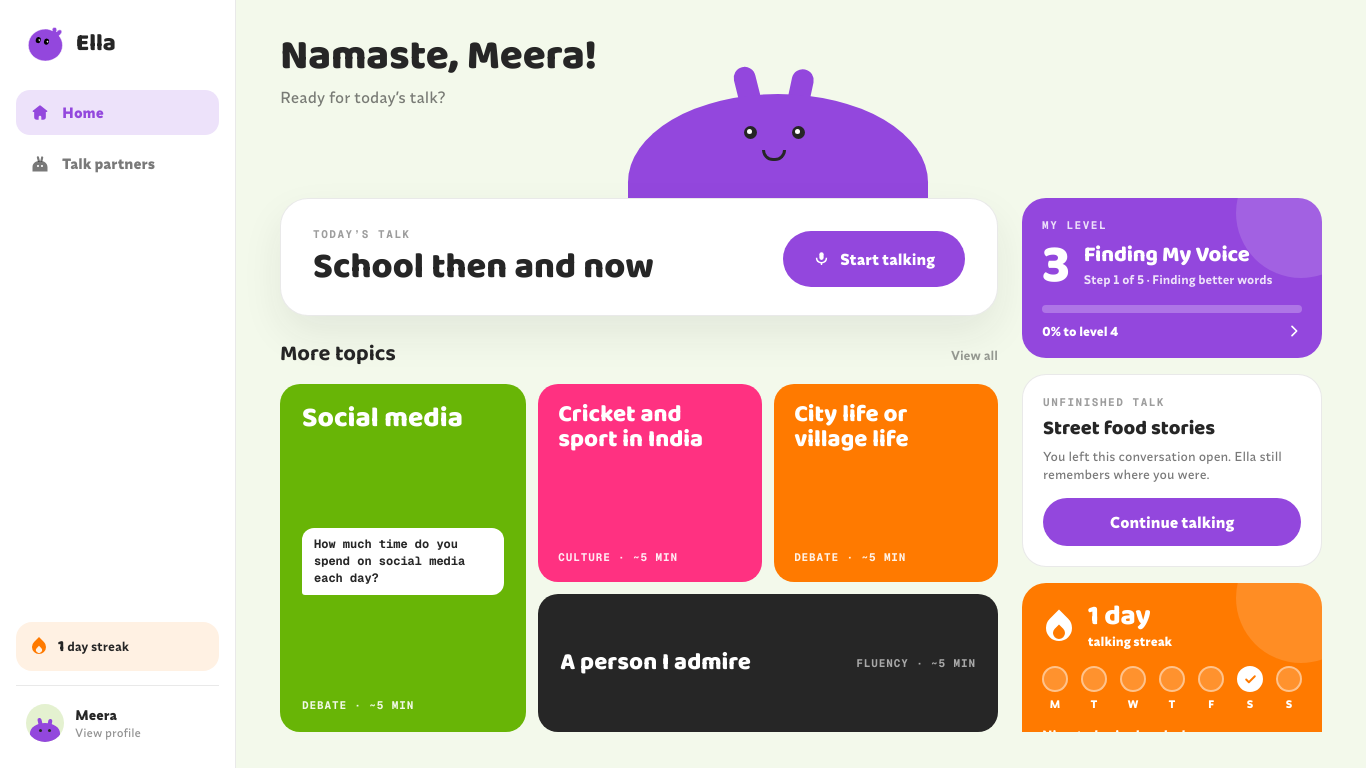
Test: Ella learner flow › offers an unfinished talk on the home screen and resumes it
The image size is (1366, 768).
Expected: the heading "Namaste, Meera!" is shown, [280,23,597,90]
Expected: the text "Unfinished talk" is shown, [1043,395,1165,409]
Click the button "Continue talking": (1172, 522) [1043,498,1301,546]
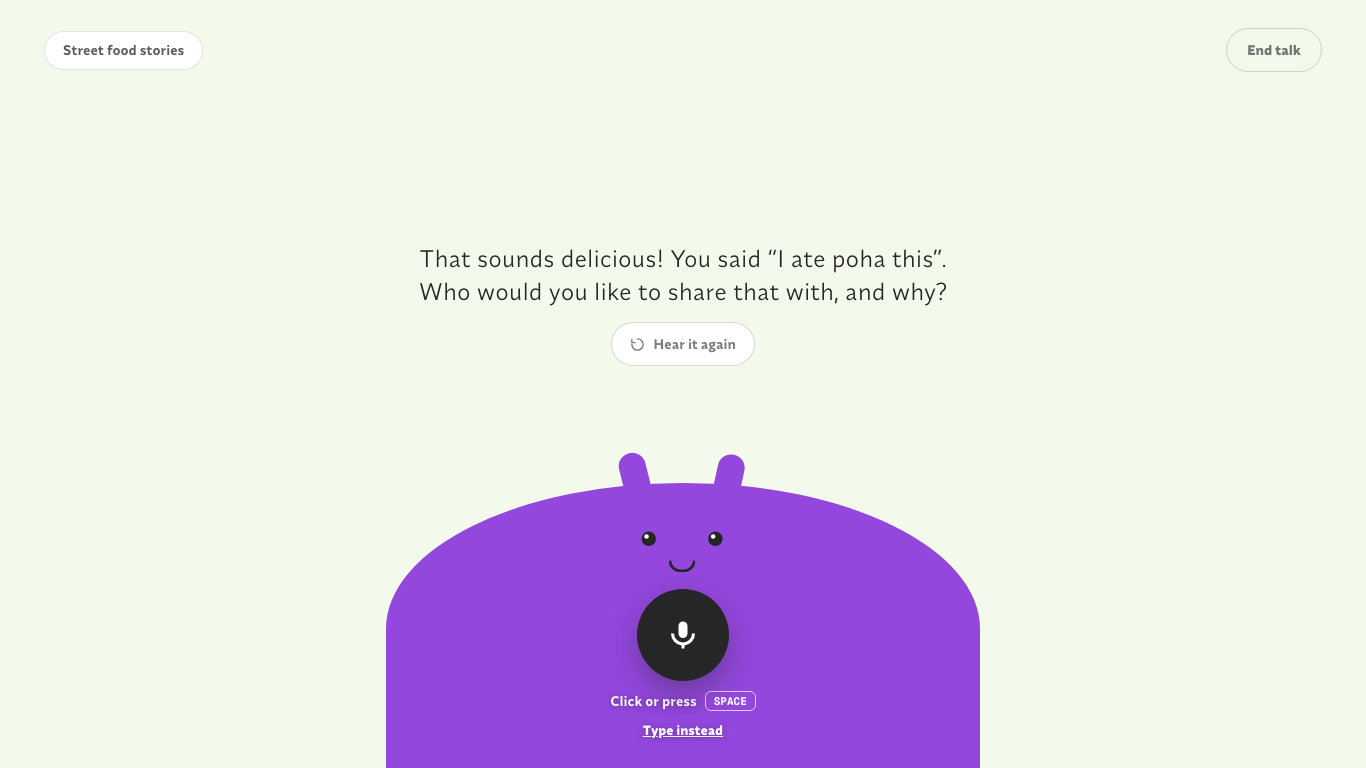
Expected: the button "End talk" is shown, [1226,28,1322,72]
Expected: the element with class "talk-prompt" shows "who would you like to share that with", [419,243,947,306]
